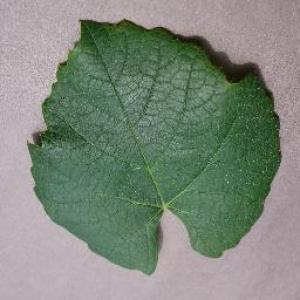Folha: (26, 17, 281, 276)
